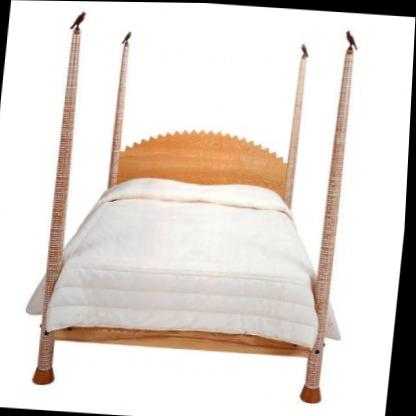Bed: (24, 119, 363, 402)
